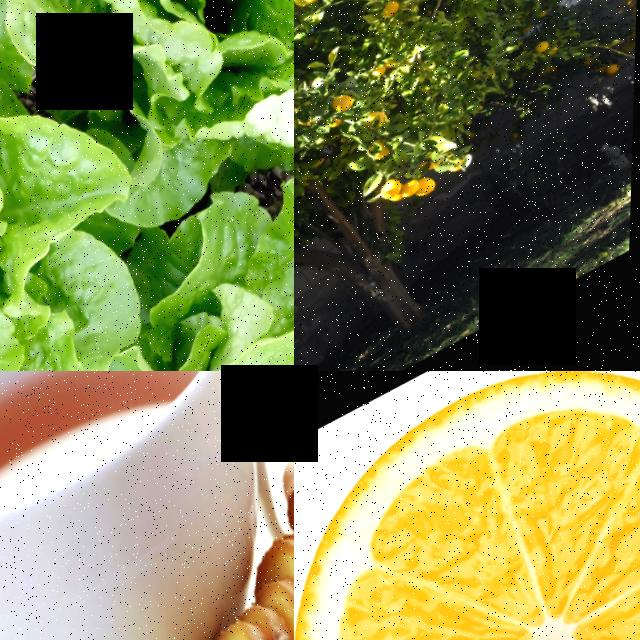lemon: (294, 371, 640, 640), (377, 182, 408, 213), (414, 181, 441, 210)
lettuce: (0, 0, 294, 264), (0, 0, 180, 371), (35, 124, 294, 371)
